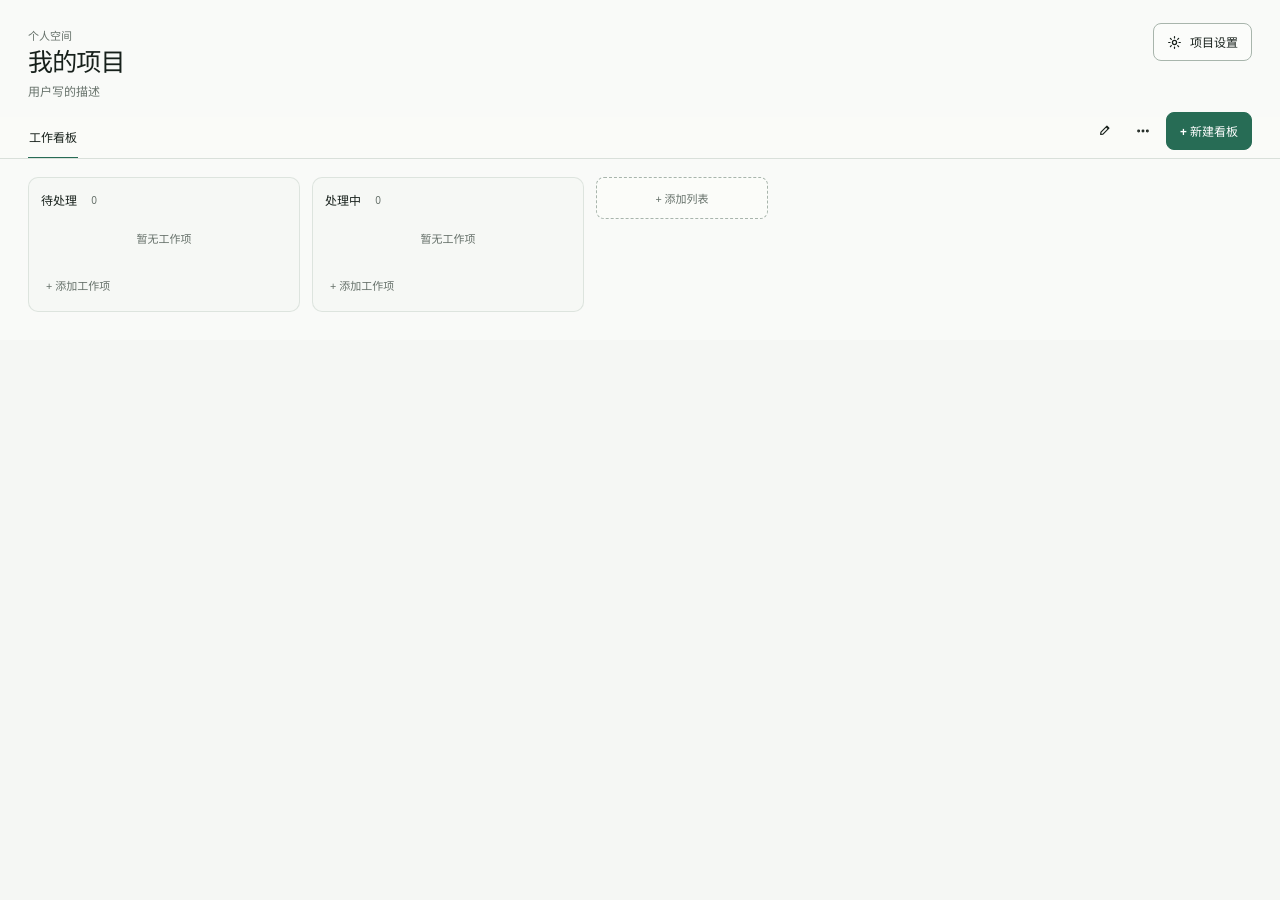
Test: Project board deletion › shows a stable deletion error for BOARD_NOT_EMPTY
Click the button named "看板操作" at (1143, 131), box [1128, 116, 1158, 146]
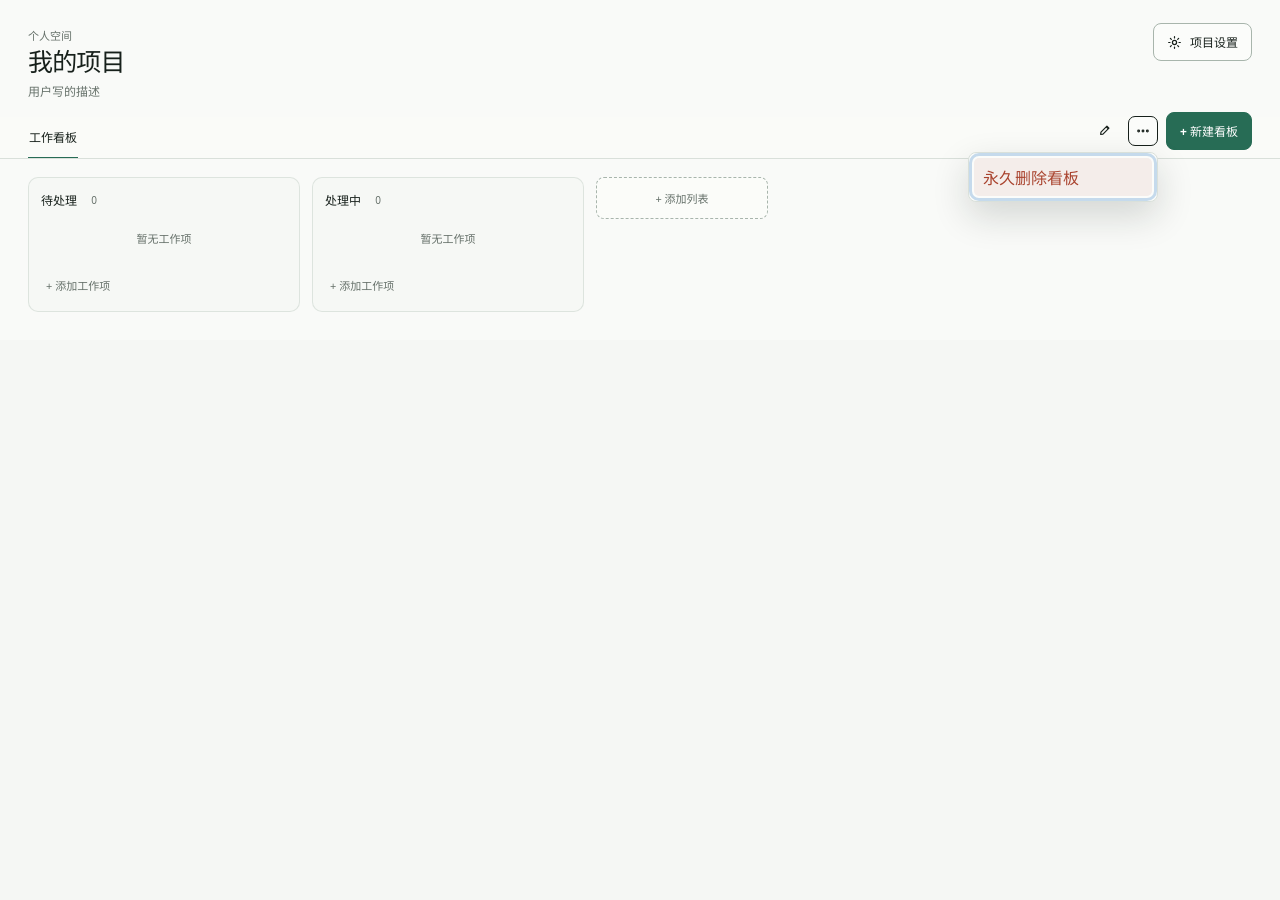
Click the menu item "永久删除看板" at (1063, 177), box [974, 158, 1152, 196]
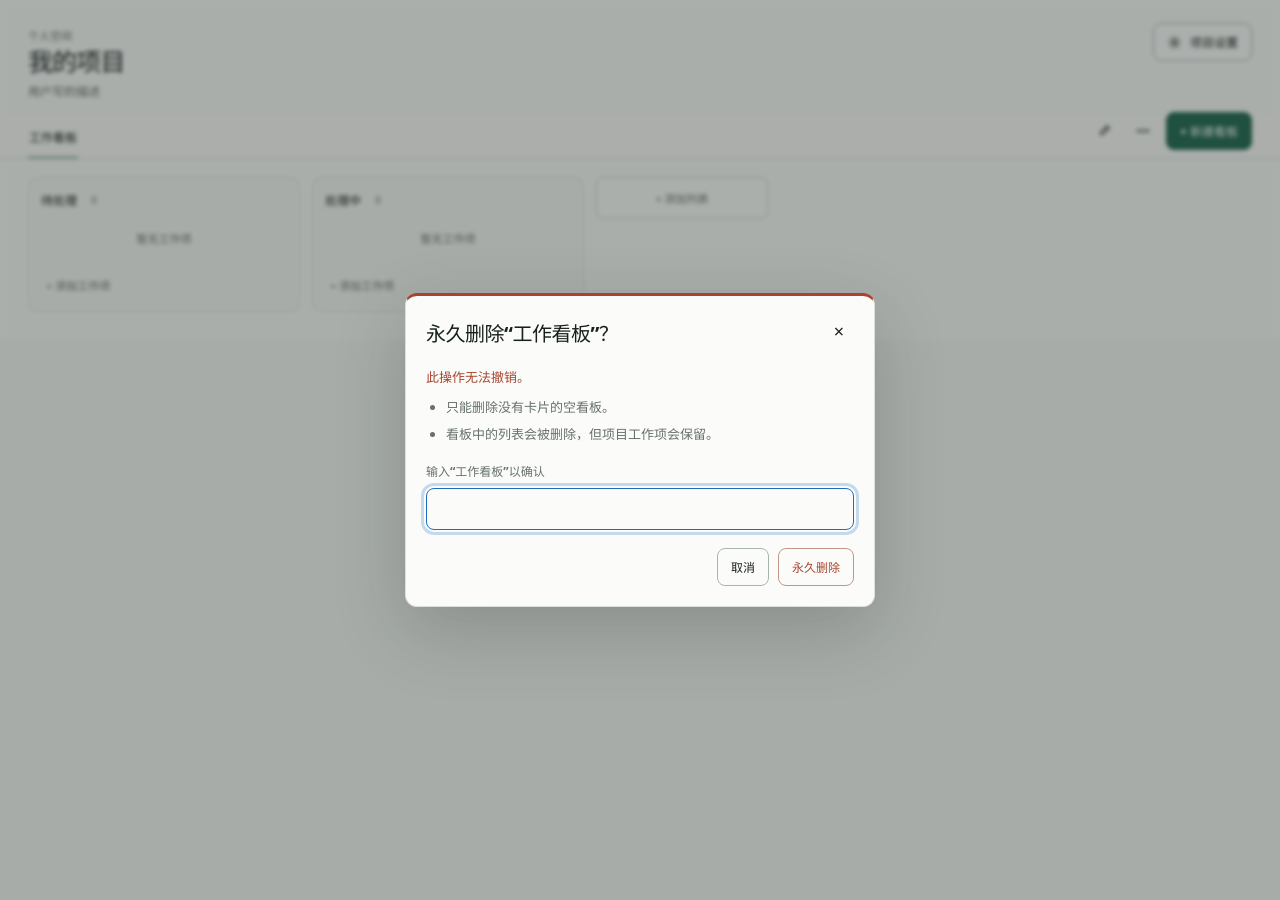
Type "工作看板" into the field labelled "输入“工作看板”以确认" at (640, 509), box [426, 488, 854, 530]
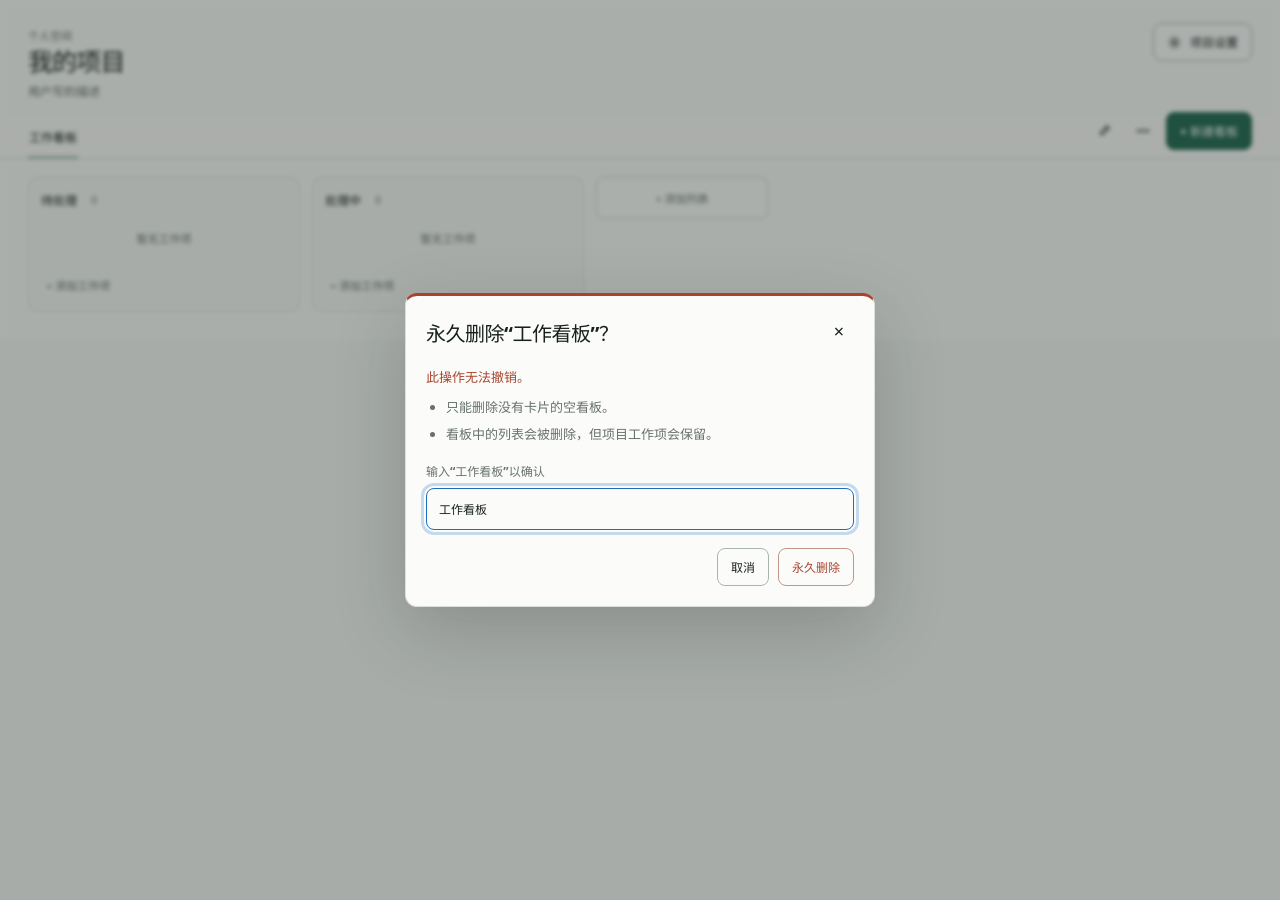
Click the button "永久删除" at (816, 567), box [778, 548, 854, 586]
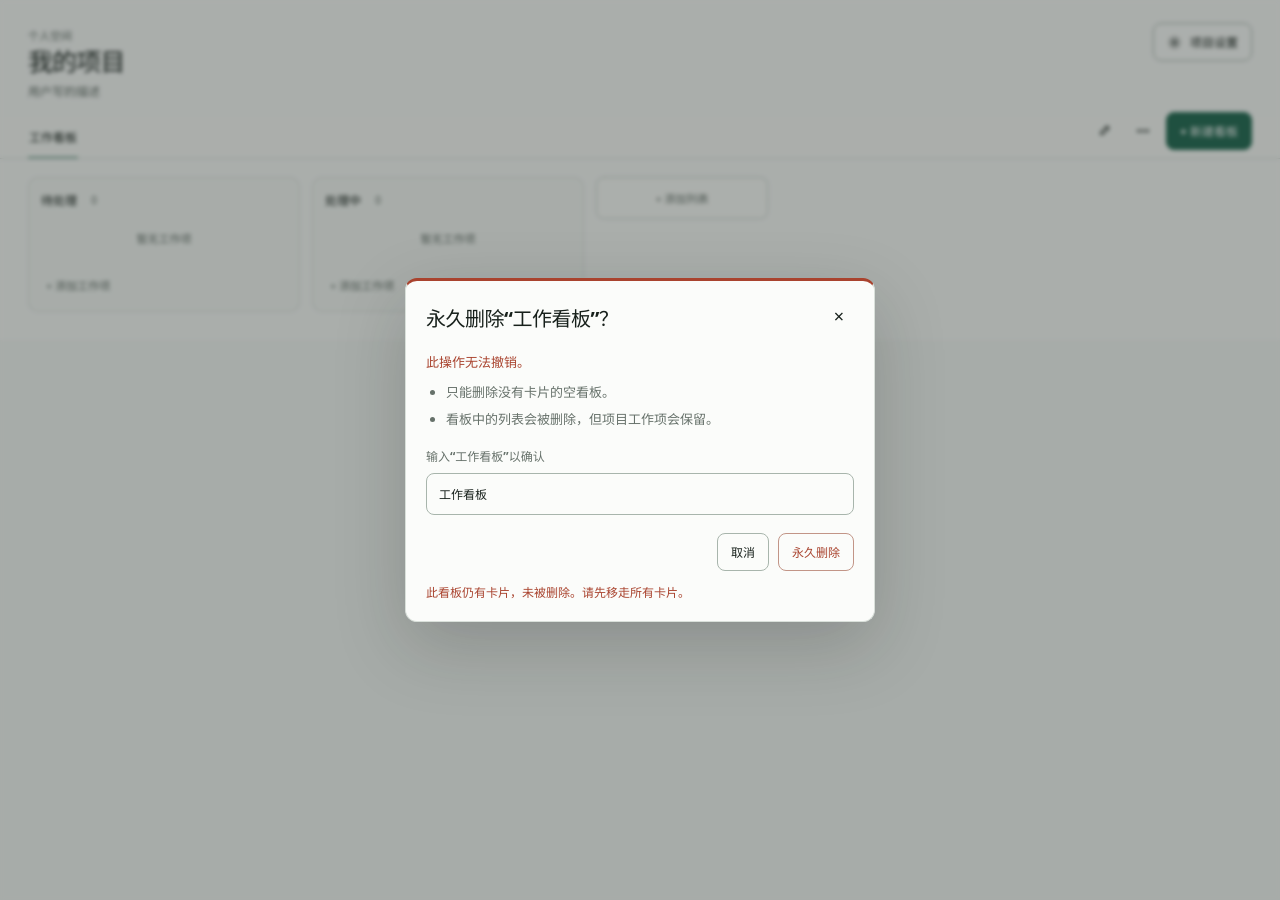
Result: the message reads "此看板仍有卡片，未被删除。请先移走所有卡片。" at [426, 584, 690, 601]
